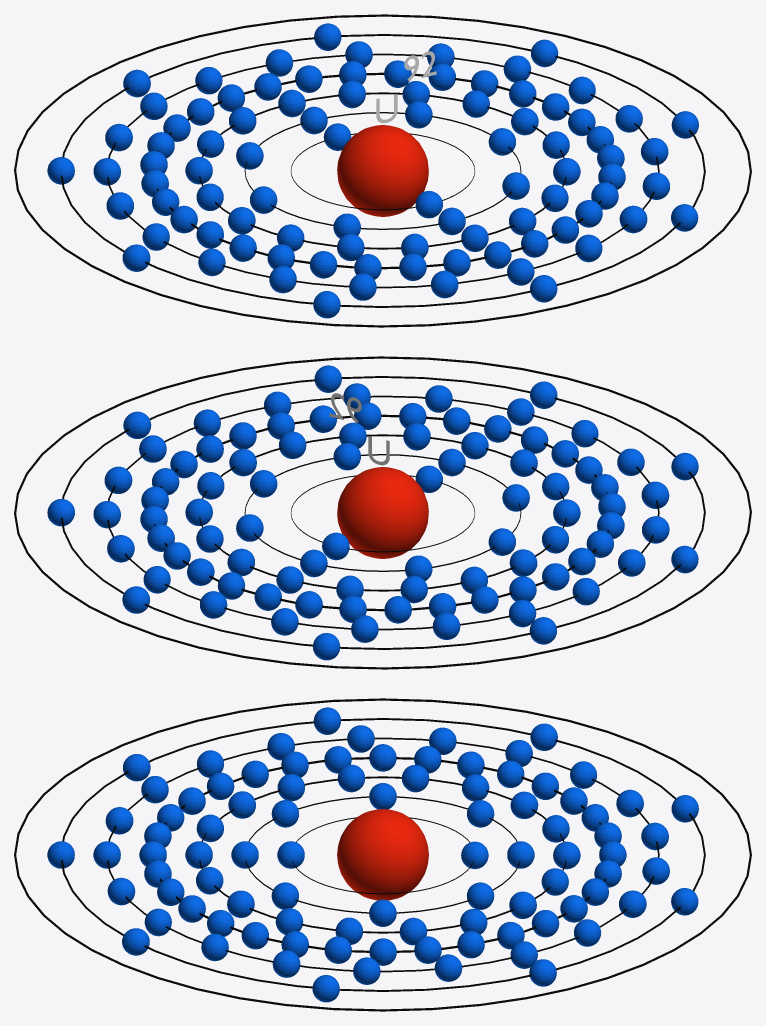
The picture shows the model from 3 angles, top to bottom: view 1: azimuth 30°, elevation 25°; view 2: azimuth 150°, elevation 25°; view 3: azimuth 270°, elevation 25°; orthographic projection.
Parts seen in each view (by area): view 1: U4, U5, U3, Proton, U6, U2, n7, n6, n5, U1, n3, n4 (+1 smaller); view 2: U4, U5, U3, Proton, U6, U2, n7, n6, n5, U1, n3, n4 (+1 smaller); view 3: U4, U5, U3, Proton, U6, U2, n7, n6, n5, U1, n3, n4 (+2 smaller).
Boxes of the visible parts, <box> form: U4: <box>140,60,625,280</box>; U5: <box>93,41,669,300</box>; U3: <box>185,80,580,261</box>; Proton: <box>337,125,428,216</box>; U6: <box>47,23,698,318</box>; U2: <box>236,101,529,238</box>; n7: <box>14,14,751,327</box>; n6: <box>61,34,705,307</box>; n5: <box>107,53,659,288</box>; U1: <box>323,123,442,218</box>; n3: <box>199,92,566,249</box>; n4: <box>152,72,611,269</box>; U4: <box>140,402,625,623</box>; U5: <box>93,383,669,642</box>; U3: <box>185,422,580,603</box>; Proton: <box>337,467,428,558</box>; U6: <box>47,365,698,660</box>; U2: <box>236,443,529,580</box>; n7: <box>14,356,751,669</box>; n6: <box>61,376,705,649</box>; n5: <box>107,395,659,630</box>; U1: <box>322,465,442,560</box>; n3: <box>199,434,566,591</box>; n4: <box>153,414,613,611</box>; U4: <box>139,744,626,965</box>; U5: <box>93,725,669,984</box>; U3: <box>185,764,580,945</box>; Proton: <box>337,809,428,900</box>; U6: <box>47,707,698,1002</box>; U2: <box>231,783,534,926</box>; n7: <box>14,698,751,1011</box>; n6: <box>61,718,705,991</box>; n5: <box>107,737,659,972</box>; U1: <box>277,841,488,869</box>; n3: <box>199,776,566,933</box>; n4: <box>153,757,612,952</box>.
Bounding box in the file's own units: 802 × 180 × 802.
